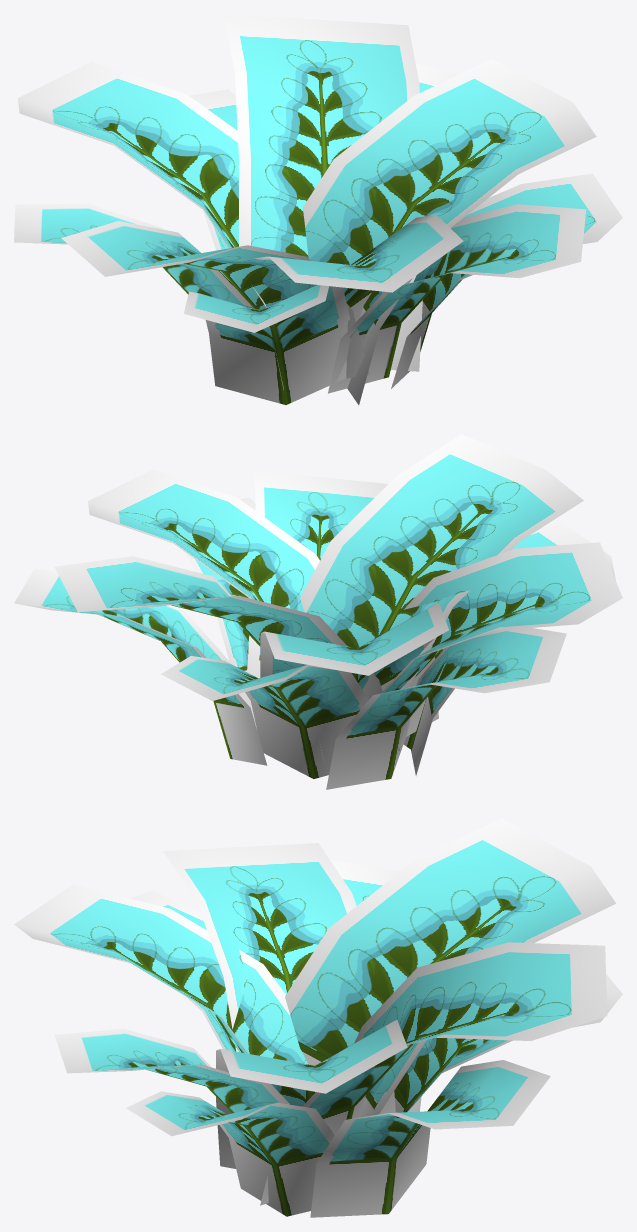
Rendered from Grass4.FBX.
3 views of the same model, one above another, from view 1: azimuth 30°, elevation 25°; view 2: azimuth 150°, elevation 25°; view 3: azimuth 270°, elevation 25° (orthographic). The views are drawn at different scales.
Parts seen in each view (by area): view 1: Object328; view 2: Object328; view 3: Object328.
Boxes of the visible parts, x1,y1,x2,y2 form: Object328: (14, 14, 622, 404); Object328: (14, 434, 622, 789); Object328: (14, 818, 622, 1217).
Bounding box in the file's own units: 53.27 × 23.81 × 52.01.
1 material, 1 textured.
